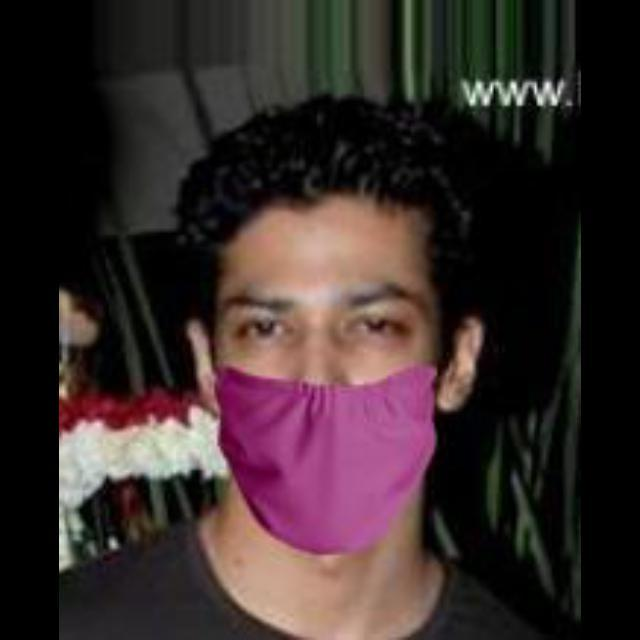suspicion: (190, 146, 466, 552)
